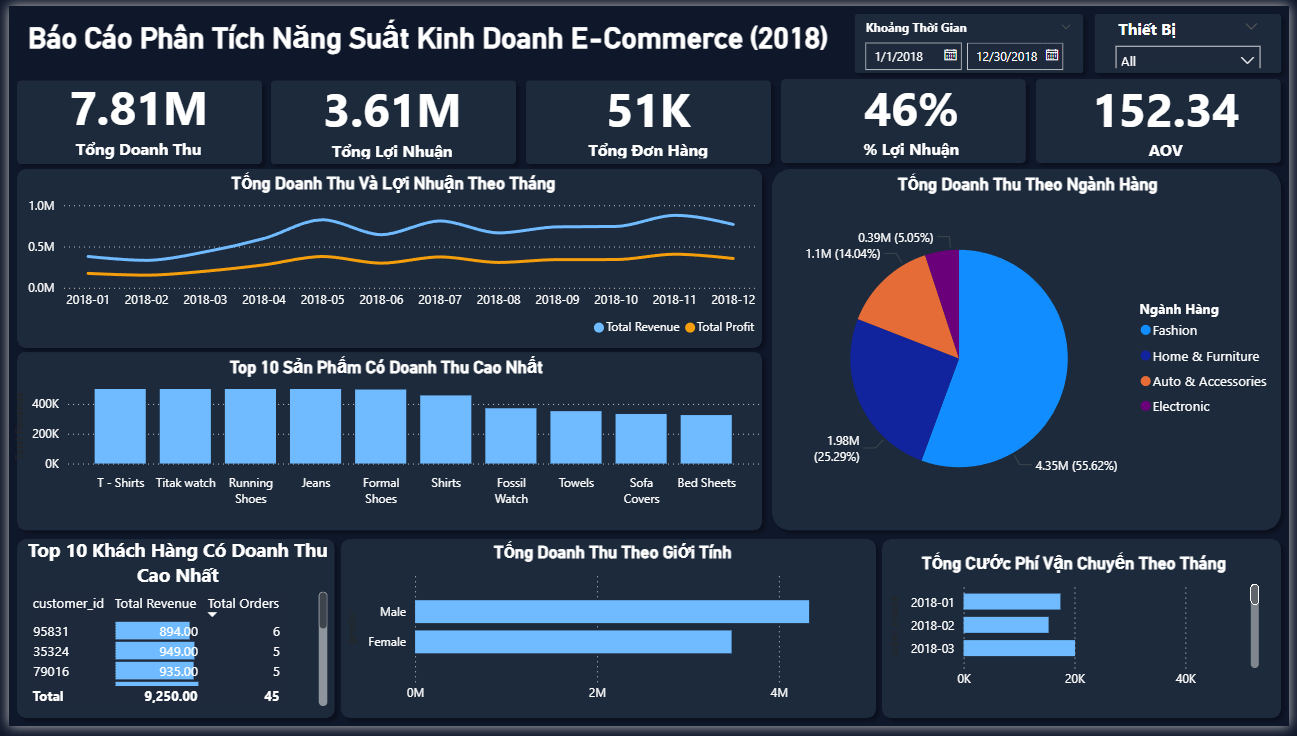

This screenshot's page, from the dashboard's own definition file:
{"tool":"powerbi","page":{"name":"Page 2","canvas":[1280,720],"ordinal":0},"visuals":[{"type":"shape","box":[837,0,245,75],"z":0},{"type":"shape","box":[1018.9,65.6,261.1,100],"z":1000},{"type":"shape","box":[763.3,65.6,261.1,100],"z":2000},{"type":"shape","box":[254.3,65.7,261.4,100],"z":3000},{"type":"shape","box":[0,66.7,261.1,100],"z":4000},{"type":"shape","box":[508.6,65.7,261.4,100],"z":5000},{"type":"shape","box":[865,525,415,195],"z":6000},{"type":"shape","box":[323.8,525,551.2,195],"z":7000},{"type":"shape","box":[0,525,333.8,195],"z":8000},{"type":"shape","box":[0,337.5,761.2,195],"z":9000},{"type":"shape","box":[0,155,761.2,195],"z":10000},{"type":"card","fields":{"Values":["fact_sales.Total Revenue"]},"box":[49.3,64.3,162.1,94.3],"z":11000},{"type":"card","fields":{"Values":["fact_sales.Total Profit"]},"box":[289.3,67.9,189.3,90.7],"z":12000},{"type":"card","fields":{"Values":["fact_sales.Profit Margin %"]},"box":[803.1,63.1,200,97.7],"z":13000},{"type":"card","fields":{"Values":["dim_product.Total Orders"]},"box":[541.2,67.5,196.2,90],"z":14000},{"type":"lineChart","title":"Tổng Doanh Thu Và Lợi Nhuận Theo Tháng","fields":{"Category":["dim_date.order_month"],"Y":["fact_sales.Total Revenue","fact_sales.Total Profit"]},"box":[13.8,166.2,741.2,173.8],"z":15000},{"type":"shape","box":[1077,0,203,75],"z":16000},{"type":"slicer","fields":{"Values":["fact_sales.date_id"]},"box":[844.3,9.3,230.7,58.6],"z":17000},{"type":"clusteredBarChart","title":"Tổng Doanh Thu Theo Giới Tính","fields":{"Y":["fact_sales.Total Revenue"],"Category":["dim_customer.gender"]},"box":[332.5,535,542.5,170],"z":18000},{"type":"shape","box":[755,155,525,377.5],"z":19000},{"type":"slicer","fields":{"Values":["dim_customer.device_type"]},"box":[1096.2,6.2,165,56.2],"z":20000},{"type":"barChart","title":"Tổng Cước Phí Vận Chuyển Theo Tháng","fields":{"Category":["dim_date.order_month"],"Y":["dim_customer.Total Shipping Cost"]},"box":[875,546.2,380,145],"z":21000},{"type":"pivotTable","title":"Top 10 Khách Hàng Có Doanh Thu Cao Nhất","fields":{"Rows":["fact_sales.customer_id"],"Values":["fact_sales.Total Revenue","dim_product.Total Orders"]},"box":[13.8,531.2,310,173.8],"z":22000},{"type":"textbox","box":[0,8.8,837.5,53.8],"z":23000},{"type":"card","fields":{"Values":["fact_sales.AOV"]},"box":[1058.8,67.5,196.2,90],"z":24000},{"type":"pieChart","title":"Tổng Doanh Thu Theo Ngành Hàng","fields":{"Category":["dim_product.product_category"],"Y":["fact_sales.Total Revenue"]},"box":[765,167.5,507.5,351.2],"z":25000},{"type":"columnChart","title":"Top 10 Sản Phẩm Có Doanh Thu Cao Nhất","fields":{"Category":["dim_product.product_name"],"Y":["fact_sales.Total Revenue"]},"box":[0,350,755,158.8],"z":26000}]}

Visuals, with their boxes in screenshot pixels (x1, y1, x2, y2), scaled from the page's 1280x720 canvas onto the 1297x736 screenshot:
shape: [848,0,1096,77]
shape: [1032,67,1296,169]
shape: [773,67,1038,169]
shape: [258,67,523,169]
shape: [0,68,265,170]
shape: [515,67,780,169]
shape: [876,537,1296,735]
shape: [328,537,887,735]
shape: [0,537,338,735]
shape: [0,345,771,544]
shape: [0,158,771,358]
card - fact_sales.Total Revenue: [50,66,214,162]
card - fact_sales.Total Profit: [293,69,485,162]
card - fact_sales.Profit Margin %: [814,65,1016,164]
card - dim_product.Total Orders: [548,69,747,161]
"Tổng Doanh Thu Và Lợi Nhuận Theo Tháng" lineChart: [14,170,765,348]
shape: [1091,0,1296,77]
slicer - fact_sales.date_id: [856,10,1089,69]
"Tổng Doanh Thu Theo Giới Tính" clusteredBarChart: [337,547,887,721]
shape: [765,158,1296,544]
slicer - dim_customer.device_type: [1111,6,1278,64]
"Tổng Cước Phí Vận Chuyển Theo Tháng" barChart: [887,558,1272,707]
"Top 10 Khách Hàng Có Doanh Thu Cao Nhất" pivotTable: [14,543,328,721]
textbox: [0,9,849,64]
card - fact_sales.AOV: [1073,69,1272,161]
"Tổng Doanh Thu Theo Ngành Hàng" pieChart: [775,171,1289,530]
"Top 10 Sản Phẩm Có Doanh Thu Cao Nhất" columnChart: [0,358,765,520]
